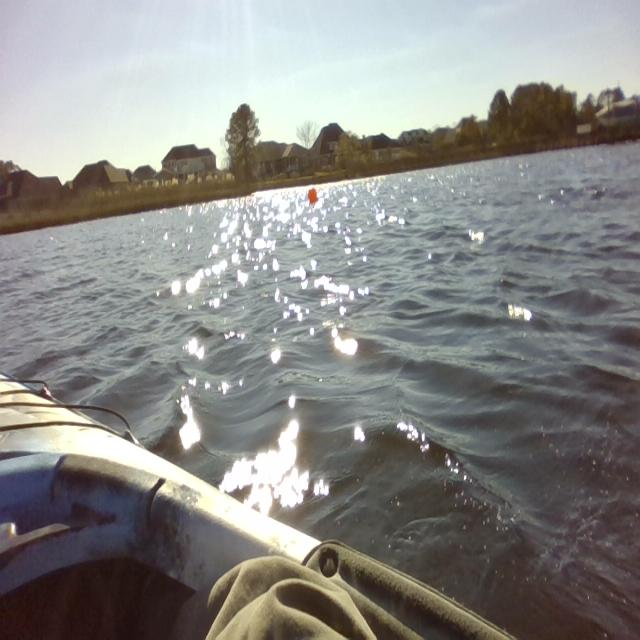Buoy: (305, 183, 321, 209)
